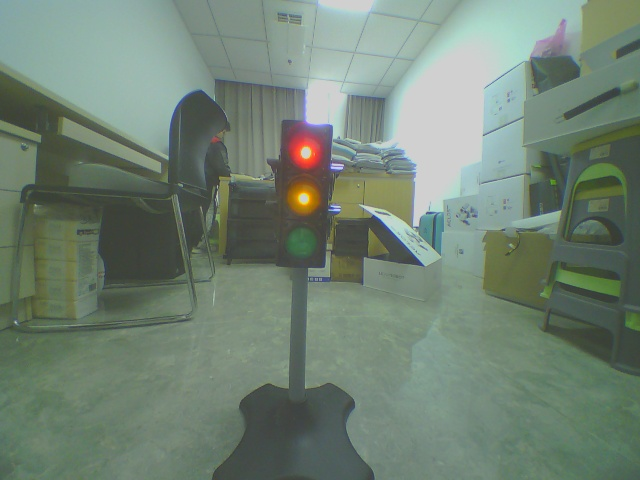Red_Yellow: (281, 120, 326, 267)
